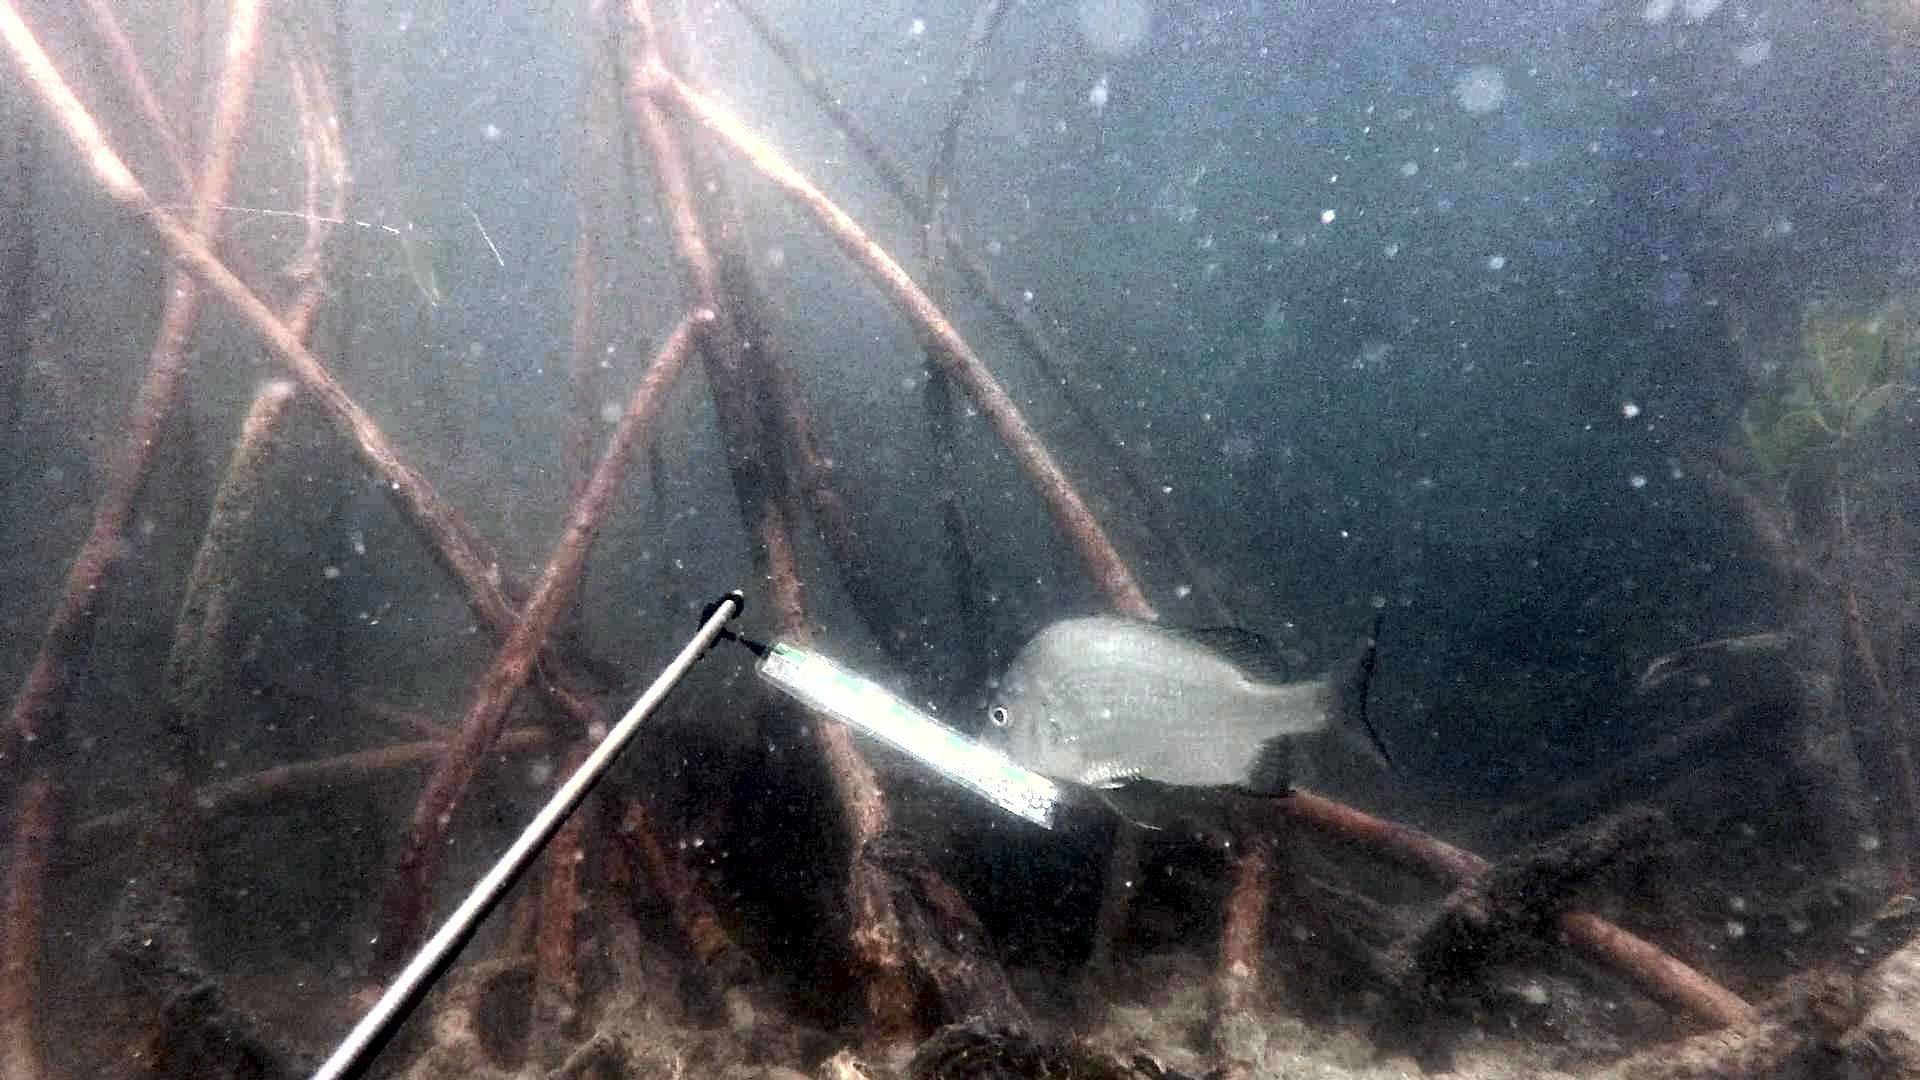acanthopagrus palmaris: (963, 596, 1410, 836)
